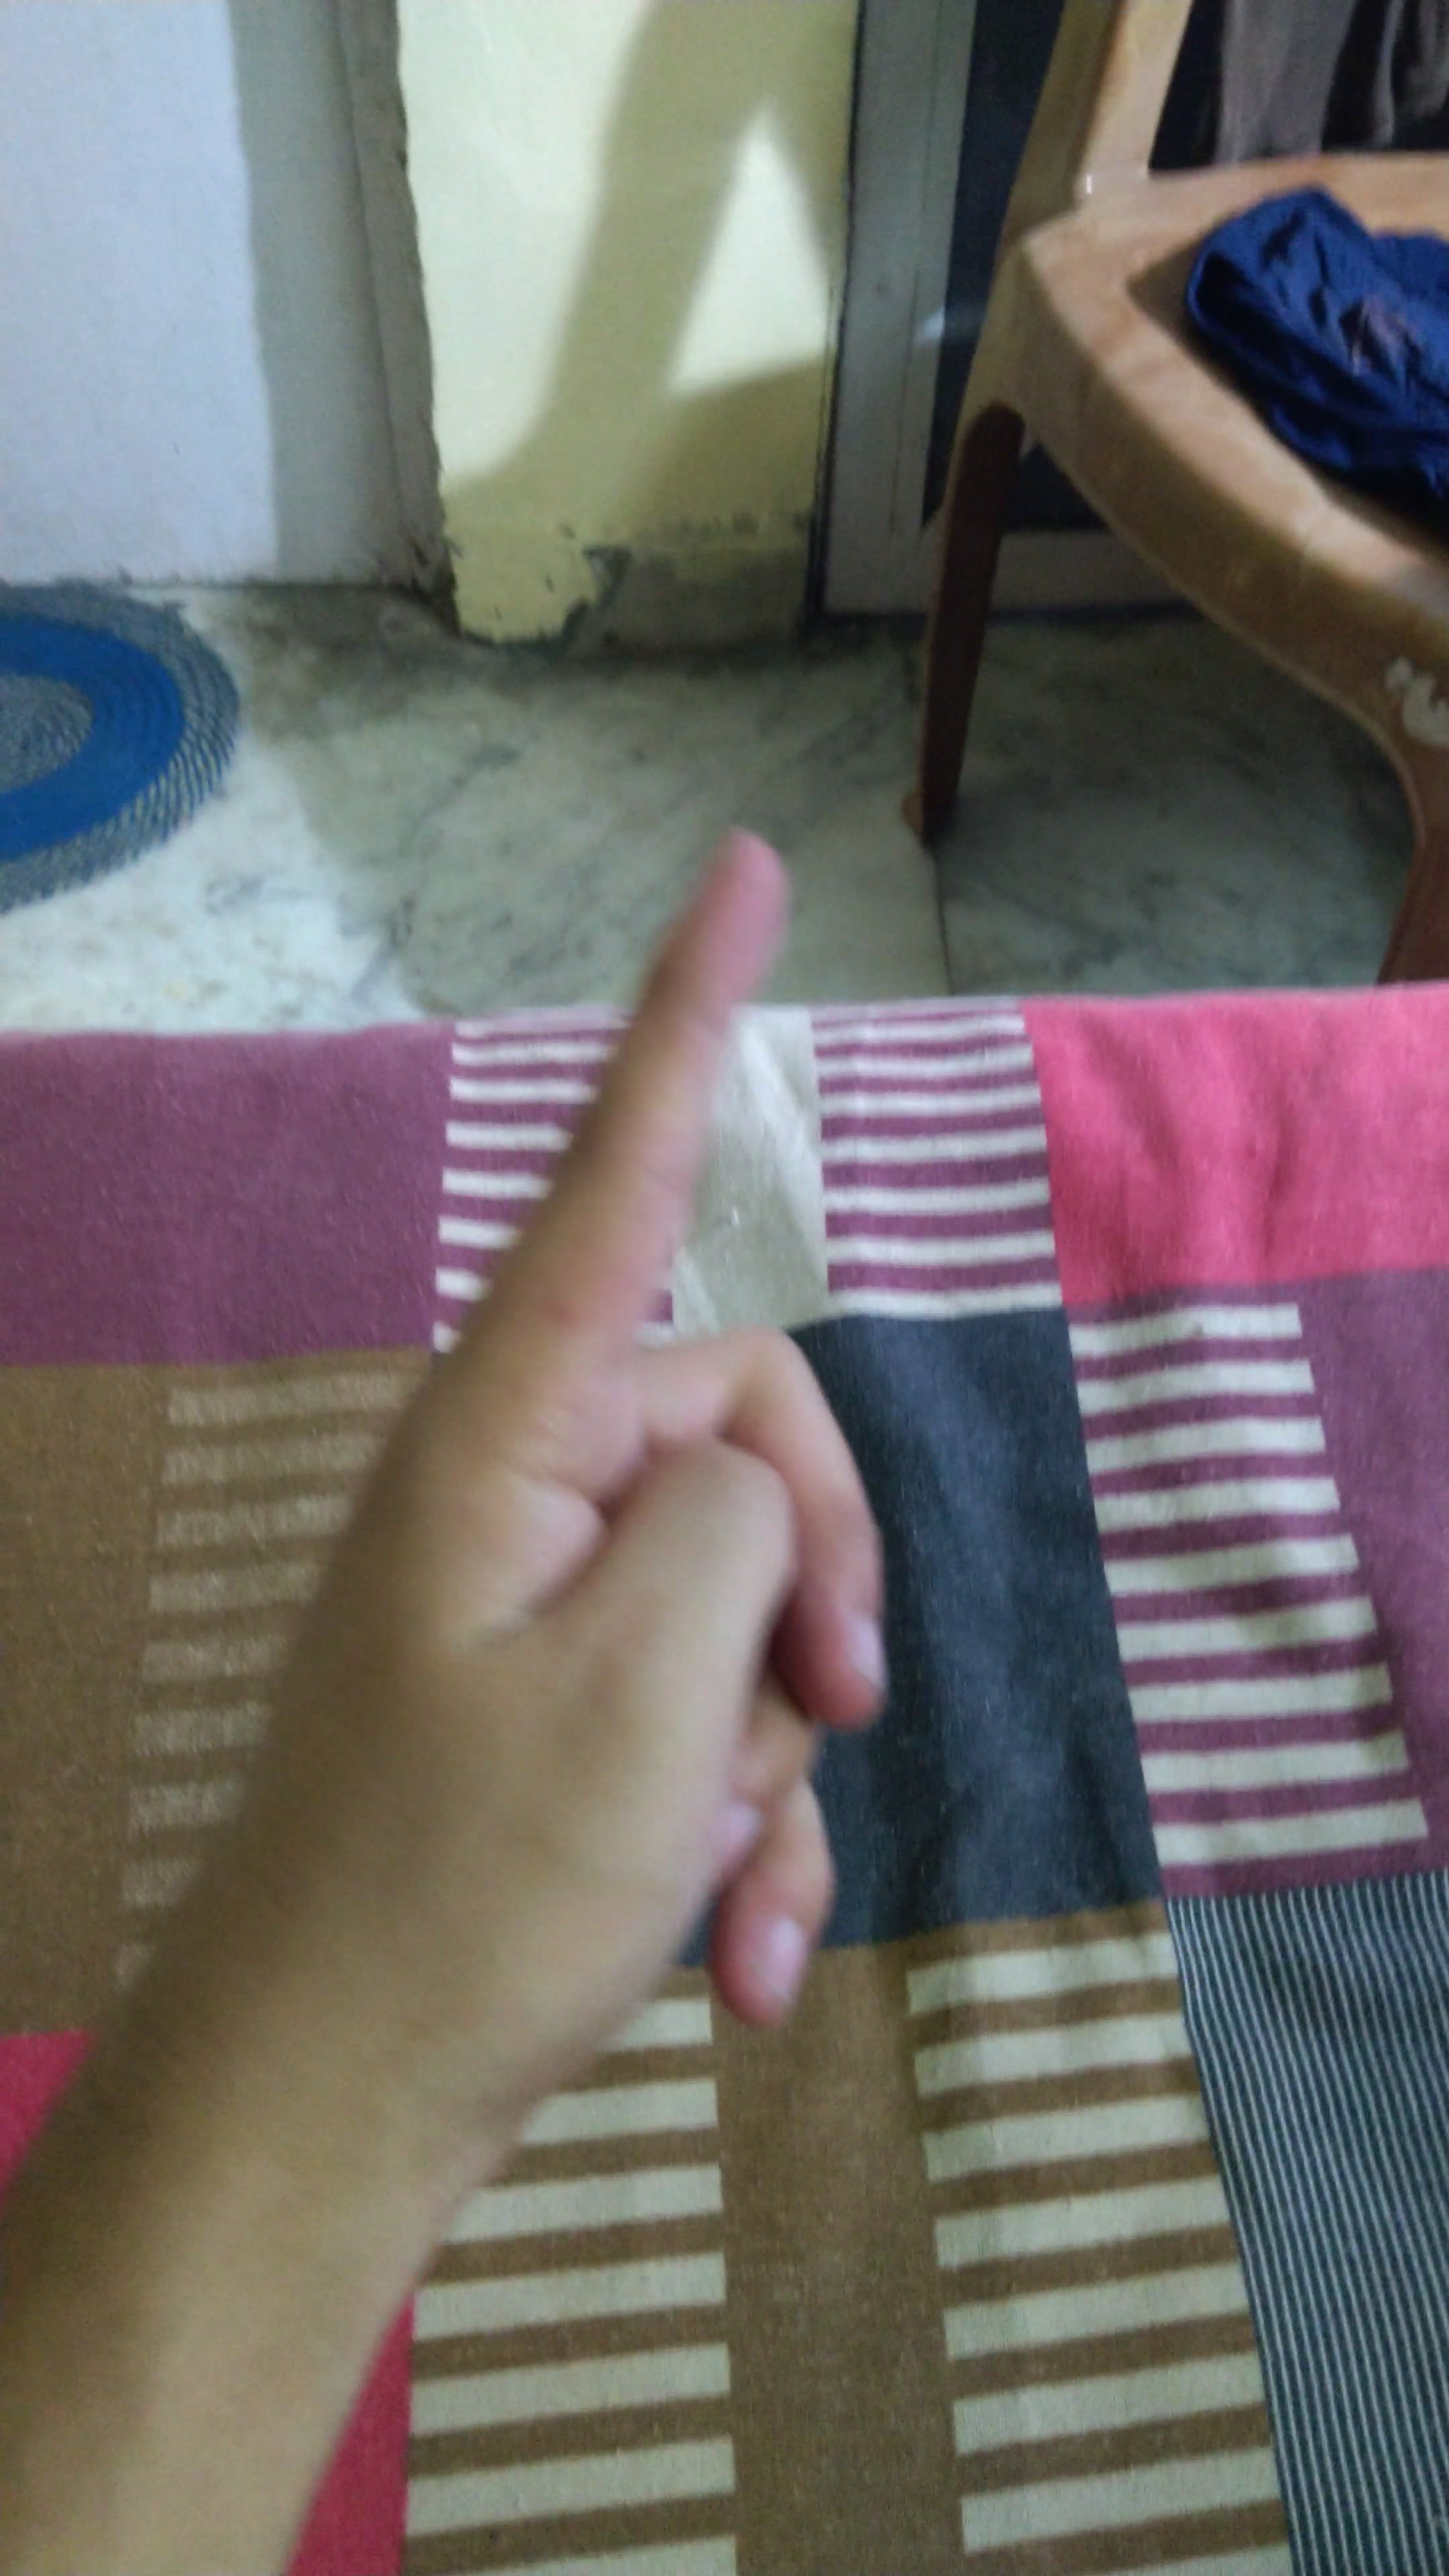hand: (205, 754, 1035, 2118)
